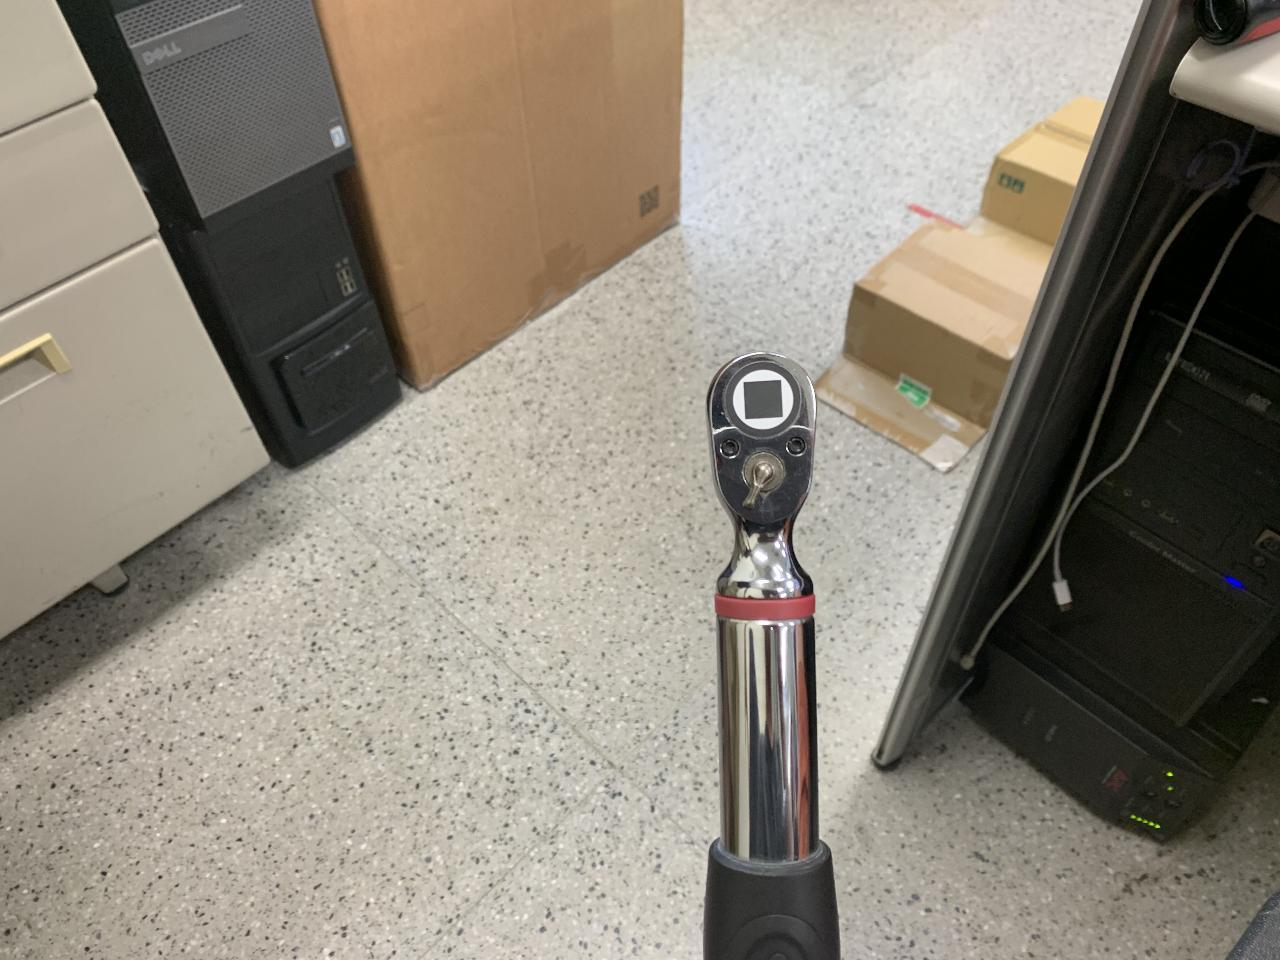Tool: (703, 350, 825, 599)
